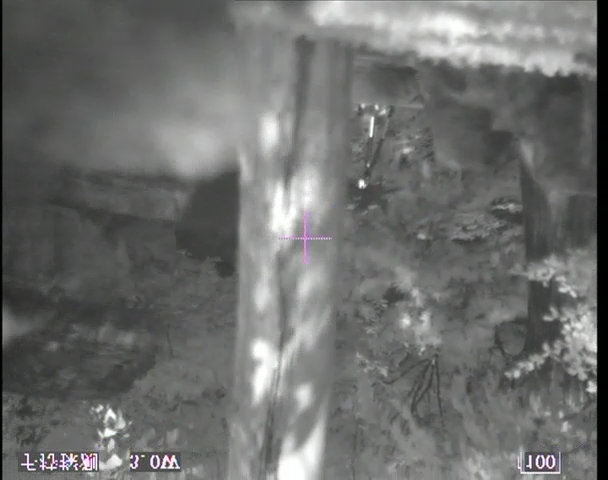my: (356, 178, 368, 190)
